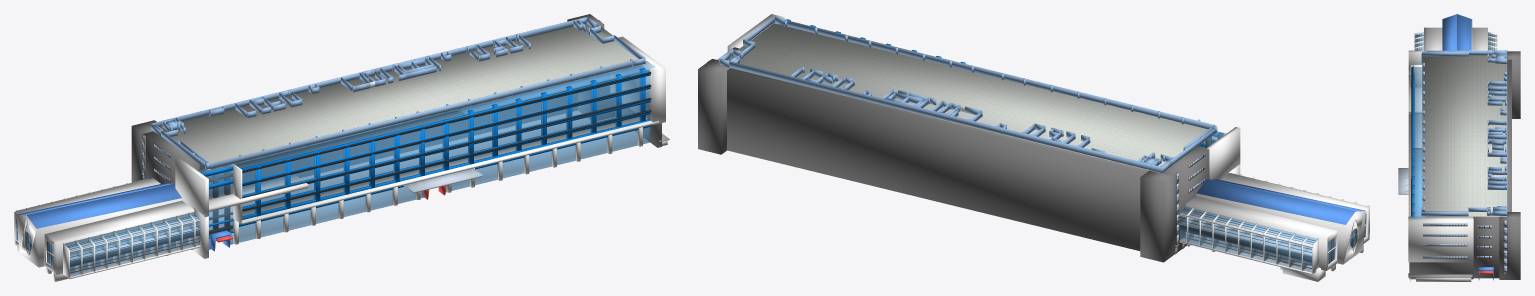
Rendered from ob_8f_mini.gltf.
3 views of the same model, side by side, from view 1: azimuth 30°, elevation 25°; view 2: azimuth 150°, elevation 25°; view 3: azimuth 270°, elevation 25° (orthographic). The views are drawn at different scales.
Parts seen in each view (by area): view 1: ob_dimian_rf, ob_waiguan_rf_242, ob_waiguan_rf_35, ob_waiguan_rf_21, ob_waiguan_rf_48, ob_waiguan_rf_238, ob_qiang_rf_106, ob_waiguan_rf_41, ob_waiguan_rf_40, ob_waiguan_rf_114, ob_qiang_rf_107, ob_waiguan_rf_45 (+30 smaller); view 2: ob_waiguan_rf_35, ob_dimian_rf, ob_waiguan_rf_29, ob_waiguan_rf_184, ob_waiguan_rf_239, ob_qiang_rf_107, ob_qiang_rf_106, ob_waiguan_rf_197, ob_waiguan_rf_103, ob_waiguan_rf_240, ob_waiguan_rf_198, ob_waiguan_rf_238 (+6 smaller); view 3: ob_dimian_rf, ob_waiguan_rf_45, ob_waiguan_rf_195, ob_waiguan_rf_197, ob_waiguan_rf_242, ob_waiguan_rf_194, ob_waiguan_rf_35, ob_waiguan_rf_244, ob_waiguan_rf_184, ob_waiguan_rf_48, ob_waiguan_rf_103, ob_waiguan_rf_114 (+29 smaller).
Boxes of the visible parts, bbox=[...] form: ob_dimian_rf: bbox=[160, 23, 638, 169]; ob_waiguan_rf_242: bbox=[235, 65, 650, 216]; ob_waiguan_rf_35: bbox=[182, 26, 577, 195]; ob_waiguan_rf_21: bbox=[64, 212, 199, 276]; ob_waiguan_rf_48: bbox=[241, 117, 658, 224]; ob_waiguan_rf_238: bbox=[44, 200, 194, 274]; ob_qiang_rf_106: bbox=[211, 60, 632, 169]; ob_waiguan_rf_41: bbox=[445, 127, 650, 192]; ob_waiguan_rf_40: bbox=[239, 186, 424, 242]; ob_waiguan_rf_114: bbox=[27, 184, 181, 228]; ob_qiang_rf_107: bbox=[151, 19, 576, 127]; ob_waiguan_rf_45: bbox=[610, 36, 665, 124]; ob_waiguan_rf_35: bbox=[727, 68, 1148, 250]; ob_dimian_rf: bbox=[717, 23, 1217, 172]; ob_waiguan_rf_29: bbox=[1180, 206, 1316, 272]; ob_waiguan_rf_184: bbox=[1140, 170, 1177, 262]; ob_waiguan_rf_239: bbox=[1185, 196, 1337, 270]; ob_qiang_rf_107: bbox=[729, 61, 1162, 172]; ob_qiang_rf_106: bbox=[787, 20, 1213, 129]; ob_waiguan_rf_197: bbox=[698, 59, 729, 154]; ob_waiguan_rf_103: bbox=[1196, 179, 1355, 224]; ob_waiguan_rf_240: bbox=[1196, 193, 1365, 264]; ob_waiguan_rf_198: bbox=[1164, 146, 1209, 251]; ob_waiguan_rf_238: bbox=[1220, 173, 1369, 246]; ob_dimian_rf: bbox=[1422, 55, 1506, 216]; ob_waiguan_rf_45: bbox=[1408, 216, 1473, 262]; ob_waiguan_rf_195: bbox=[1473, 216, 1499, 278]; ob_waiguan_rf_197: bbox=[1499, 212, 1520, 279]; ob_waiguan_rf_242: bbox=[1412, 67, 1422, 216]; ob_waiguan_rf_194: bbox=[1409, 262, 1473, 279]; ob_waiguan_rf_35: bbox=[1507, 59, 1511, 211]; ob_waiguan_rf_244: bbox=[1413, 148, 1425, 218]; ob_waiguan_rf_184: bbox=[1507, 51, 1520, 118]; ob_waiguan_rf_48: bbox=[1408, 114, 1422, 216]; ob_waiguan_rf_103: bbox=[1457, 14, 1471, 50]; ob_waiguan_rf_114: bbox=[1442, 14, 1456, 50].
Size of the model in its own units: 398 by 53.54 by 90.94.
22 materials, 8 textured.
